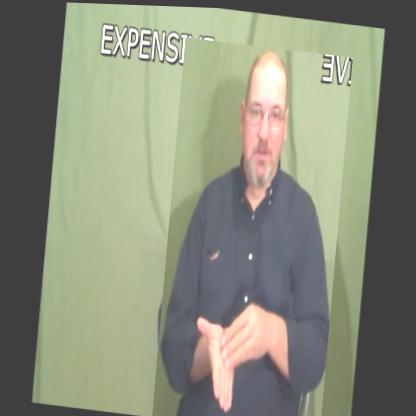Expensive: (152, 34, 352, 416)
